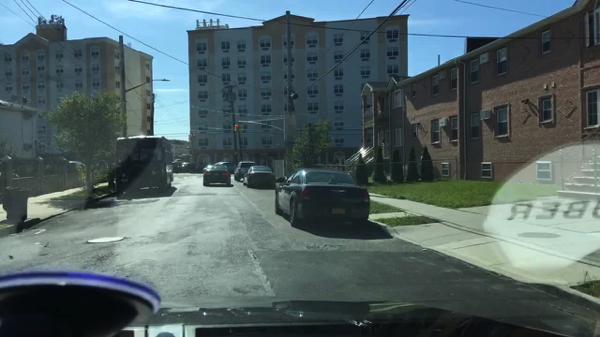bus: (115, 136, 175, 198)
car: (274, 168, 371, 227), (242, 165, 276, 189), (202, 164, 231, 186), (233, 161, 257, 182), (216, 162, 235, 172), (192, 164, 207, 174), (183, 162, 193, 173), (170, 166, 181, 176), (169, 160, 184, 166)
traffic light: (193, 134, 196, 142), (236, 124, 239, 132), (188, 134, 191, 141), (190, 134, 193, 141), (234, 125, 236, 132)
